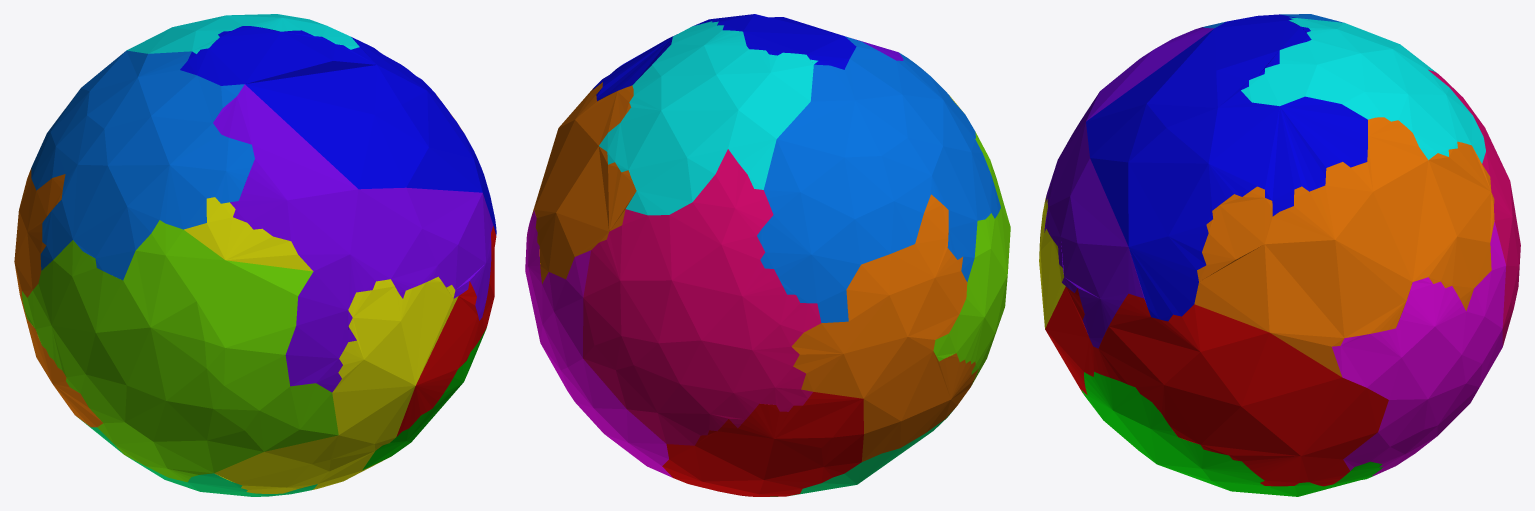
Rendered from SphereH_nanite_LOD4.fbx.
The picture shows the model from 3 angles, left to right: view 1: azimuth 30°, elevation 25°; view 2: azimuth 150°, elevation 25°; view 3: azimuth 270°, elevation 25°; orthographic projection.
Size of the model in its own units: 2.01 by 1.98 by 2.
